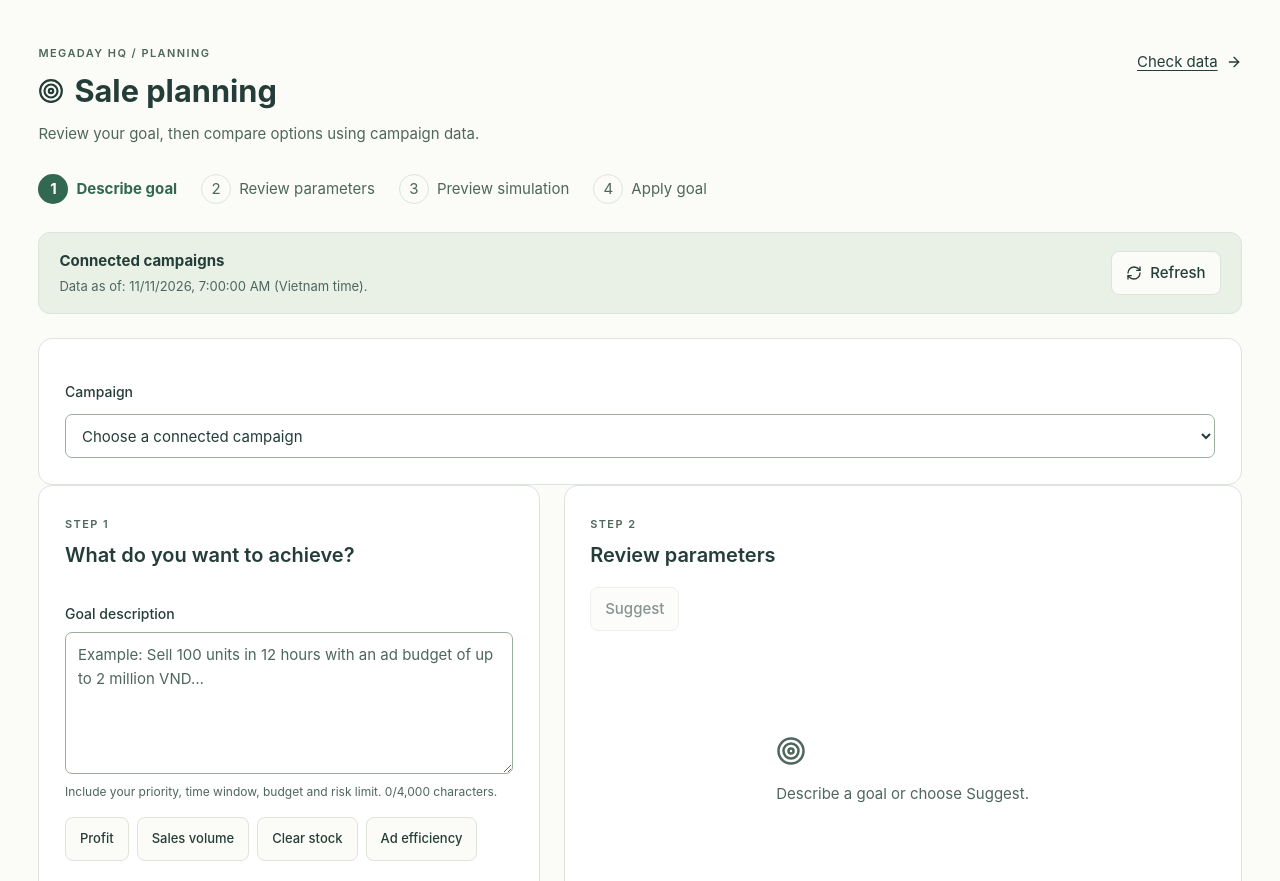
Test case: sale goal review and real simulation › shows excluded requirements before the explicit preview action
The image size is (1280, 881).
Expected: the button "Refresh" is enabled, [1111,251,1221,295]
Replace the text in the text box labelled "Goal description" with "Tối ưu lợi nhuận" at (289, 703), box [65,632,513,774]
(page scrolled)
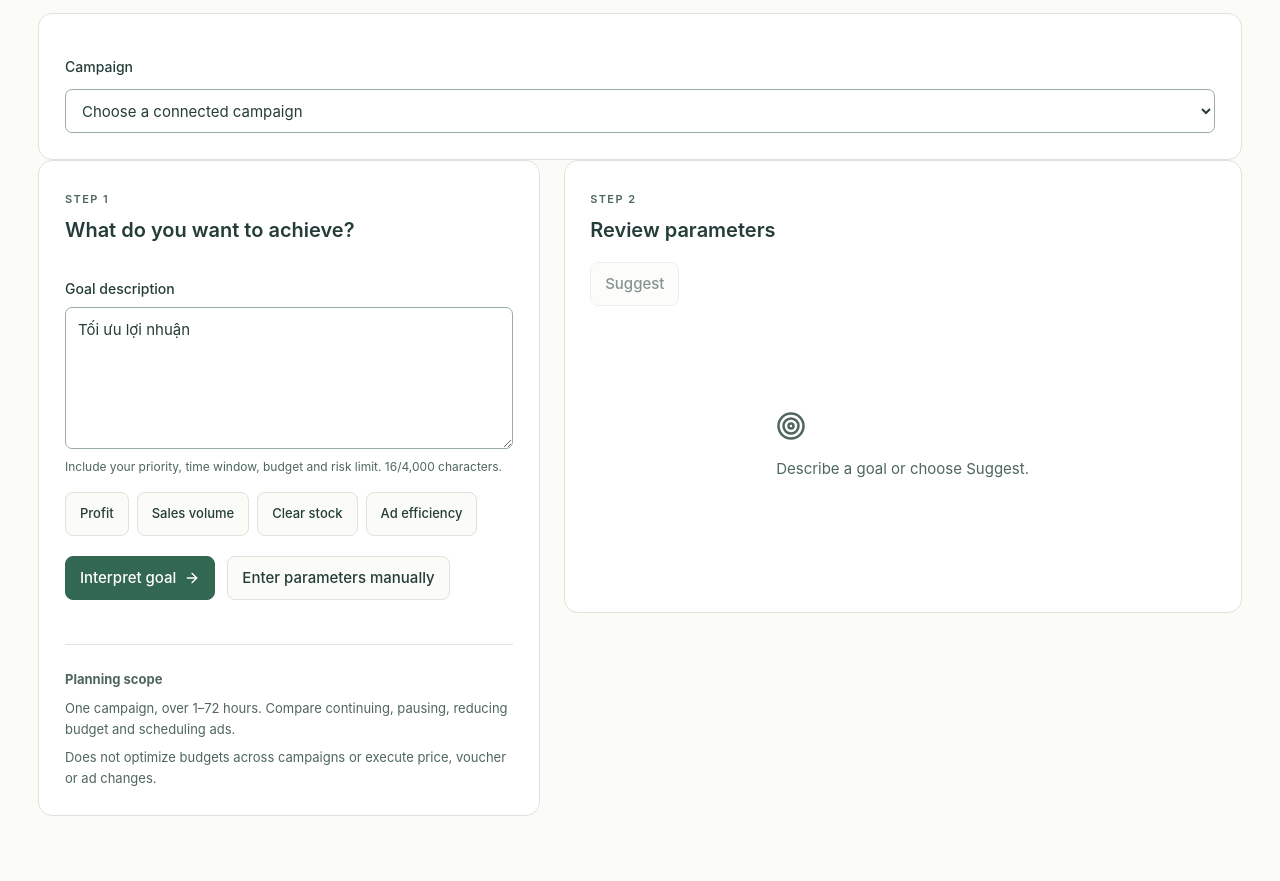
Click the button "Interpret goal" at (140, 578), box [65,556,215,600]
(page scrolled)
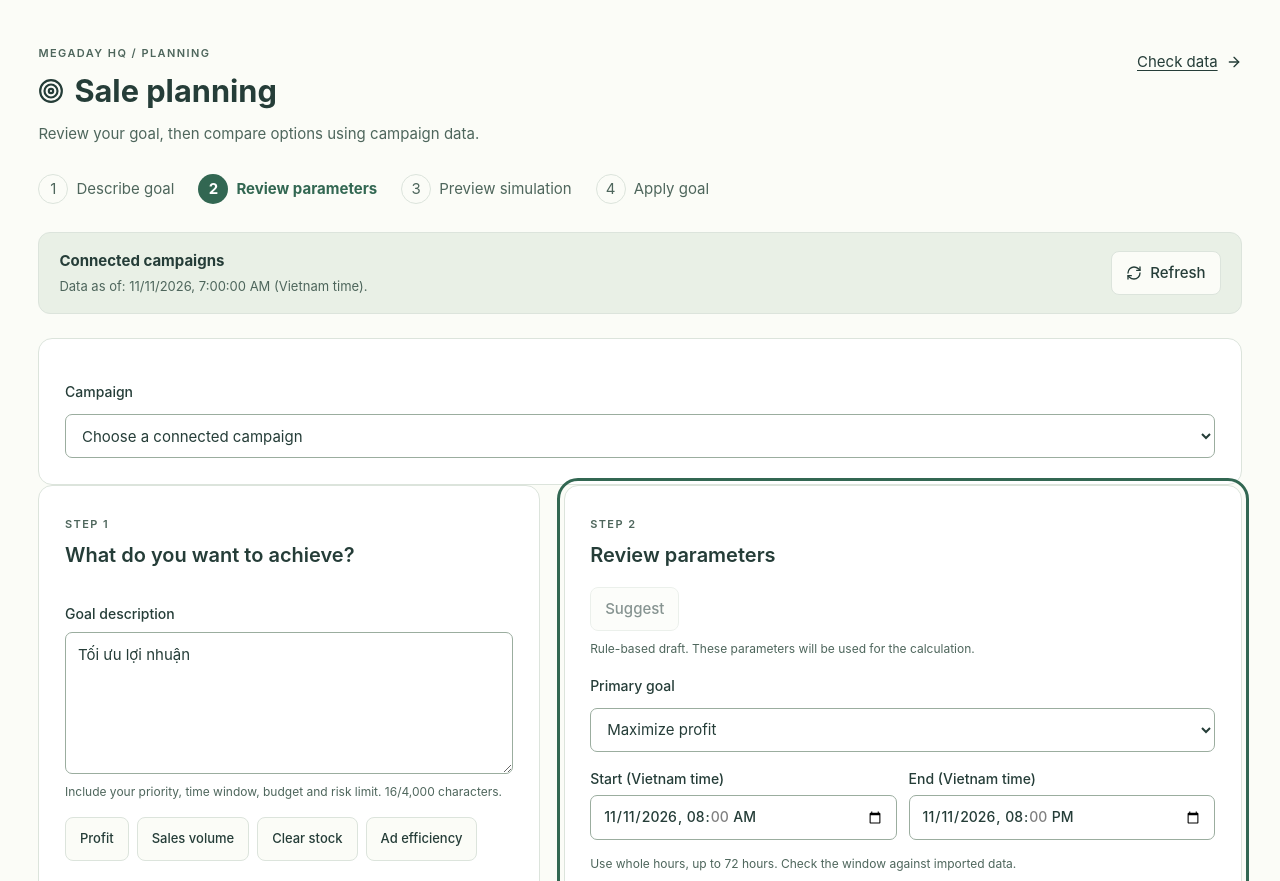
Result: the dropdown labelled "Primary goal" is shown at [590,708,1215,752]
Select "Chiến dịch thực" in the dropdown labelled "Campaign" at (640, 436), box [65,414,1215,458]
(page scrolled)
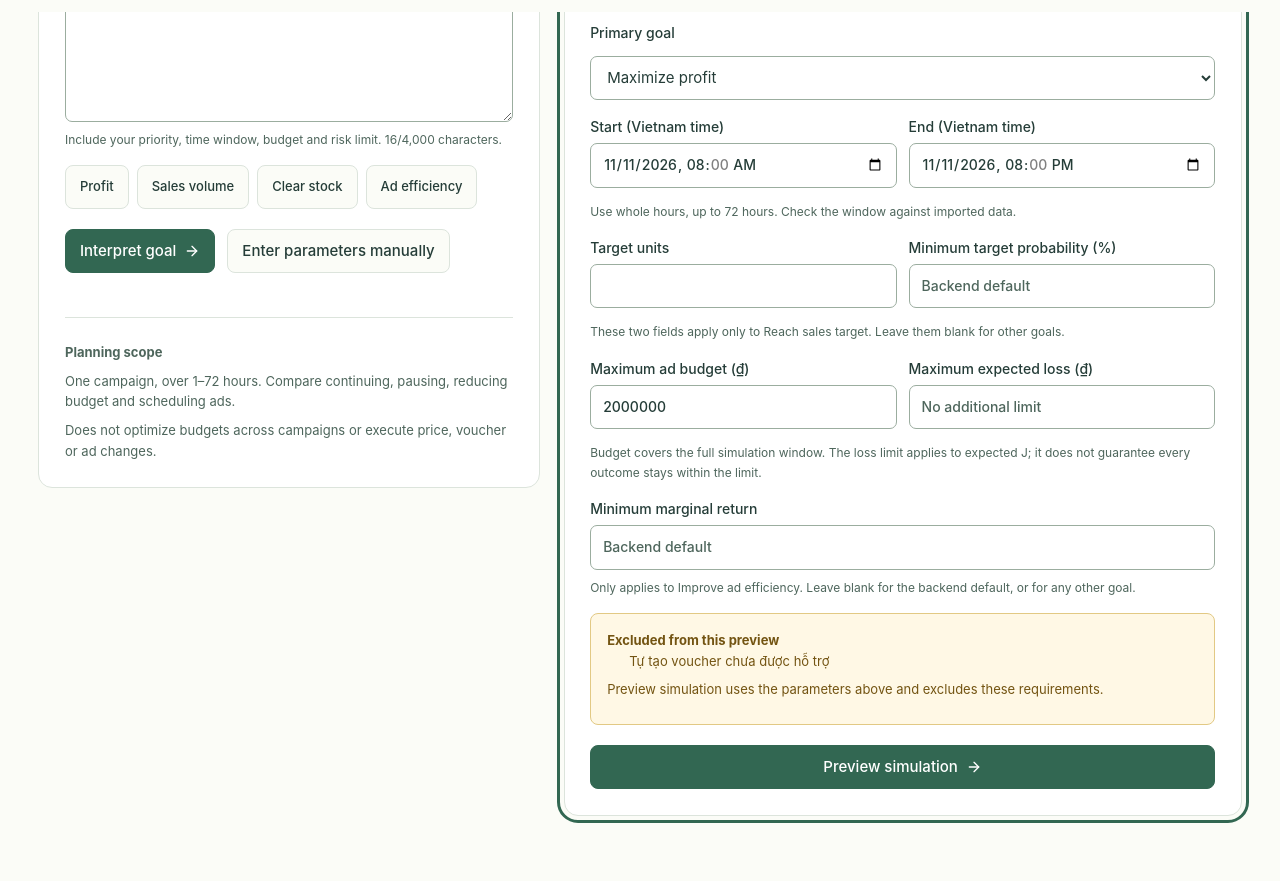
Result: the list item "Tự tạo voucher chưa được hỗ trợ" is shown at [629,653,830,669]
Click the button "Preview simulation" at (903, 767), box [590,745,1215,789]
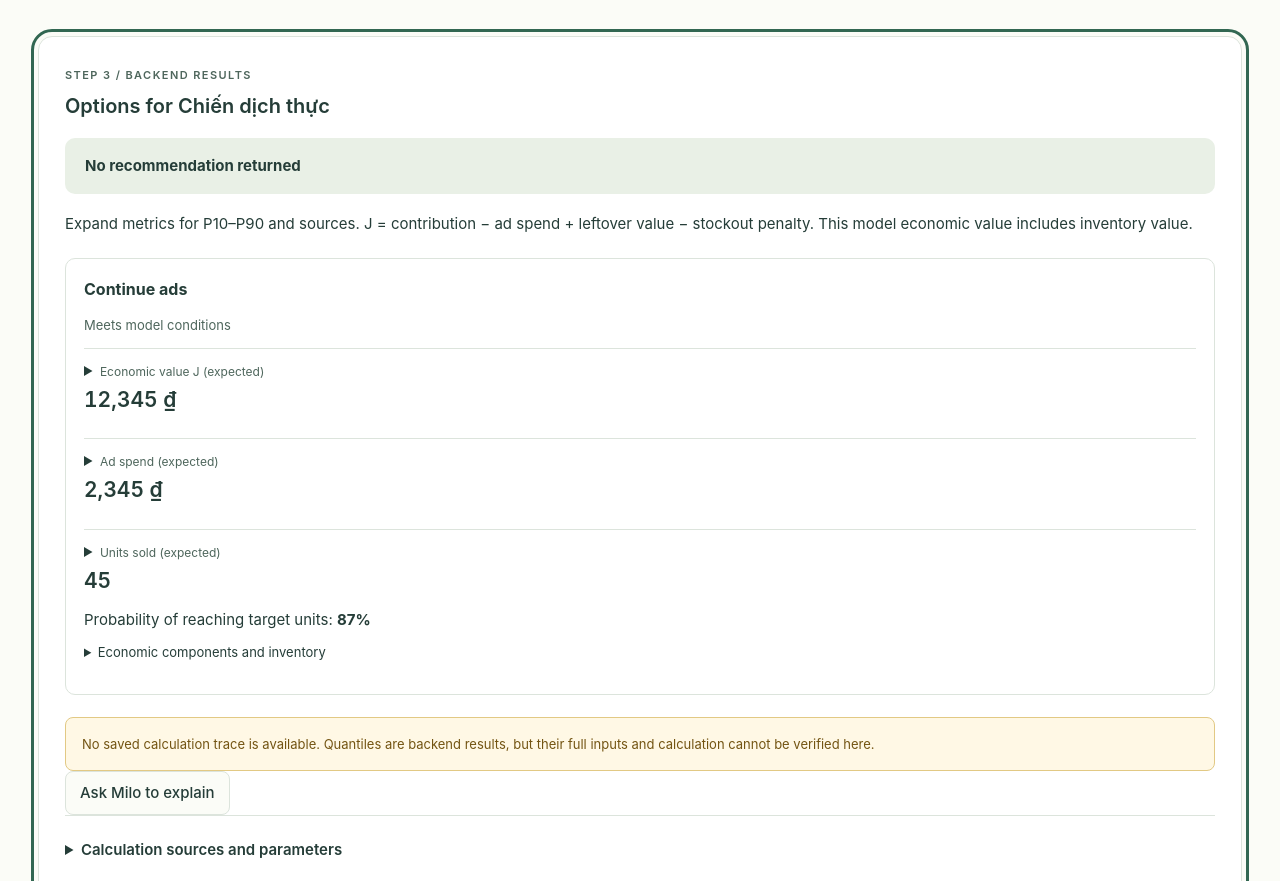
Result: the heading "Options for Chiến dịch thực" is shown at [65,94,330,118]
